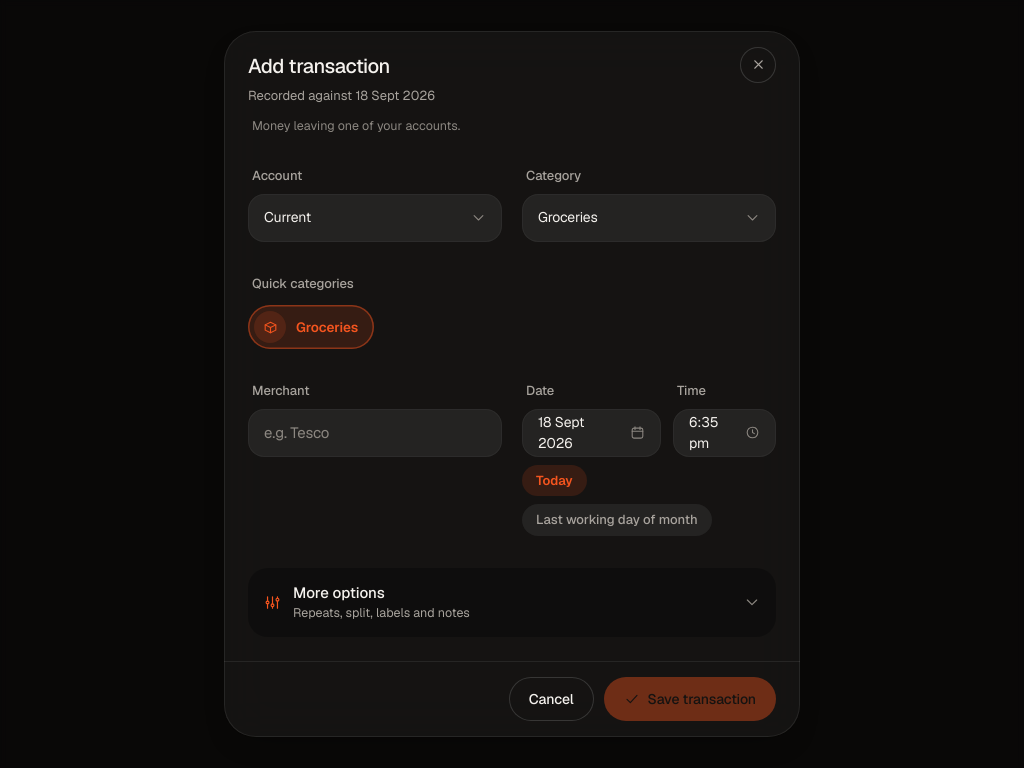
Scenario: the weekend rule › offers all four things a weekend can do to it, plus leaving it alone
This screenshot has width=1024, height=768.
(page scrolled)
Click the button "More options Repeats, split, labels and notes" at (339, 592), box [248,568,776,637]
(page scrolled)
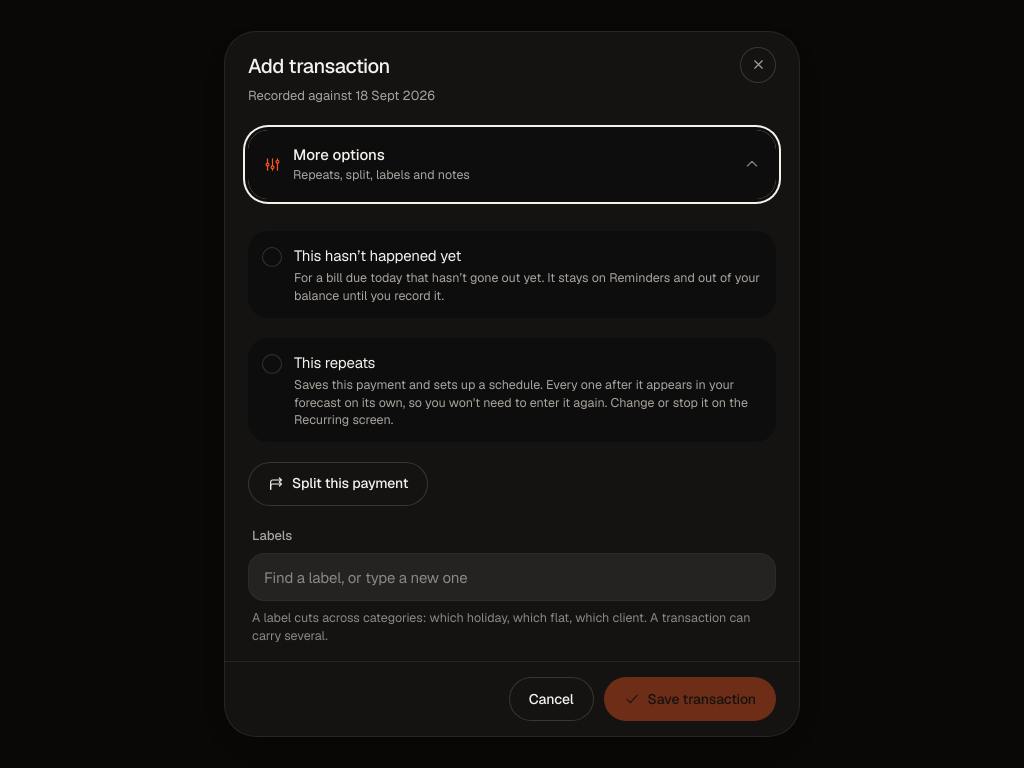
Click the checkbox labelled "This repeats" at (512, 390), box [248,338,776,442]
(page scrolled)
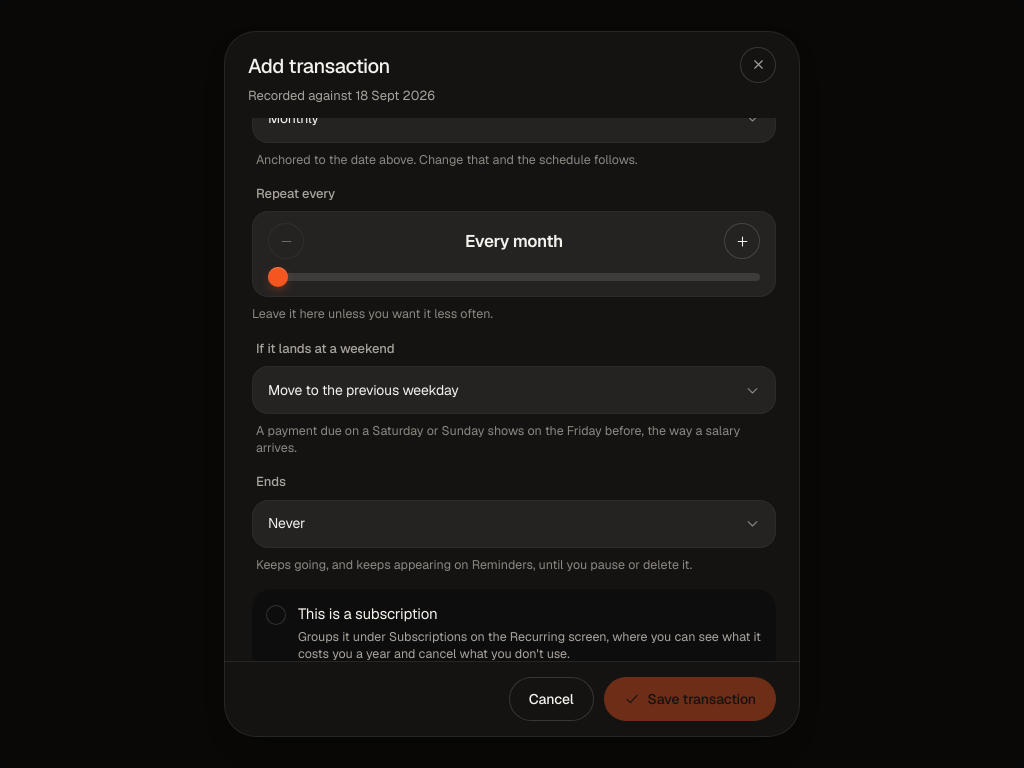
Click the dropdown named "lands at a weekend" at (363, 390), box [252,366,776,414]
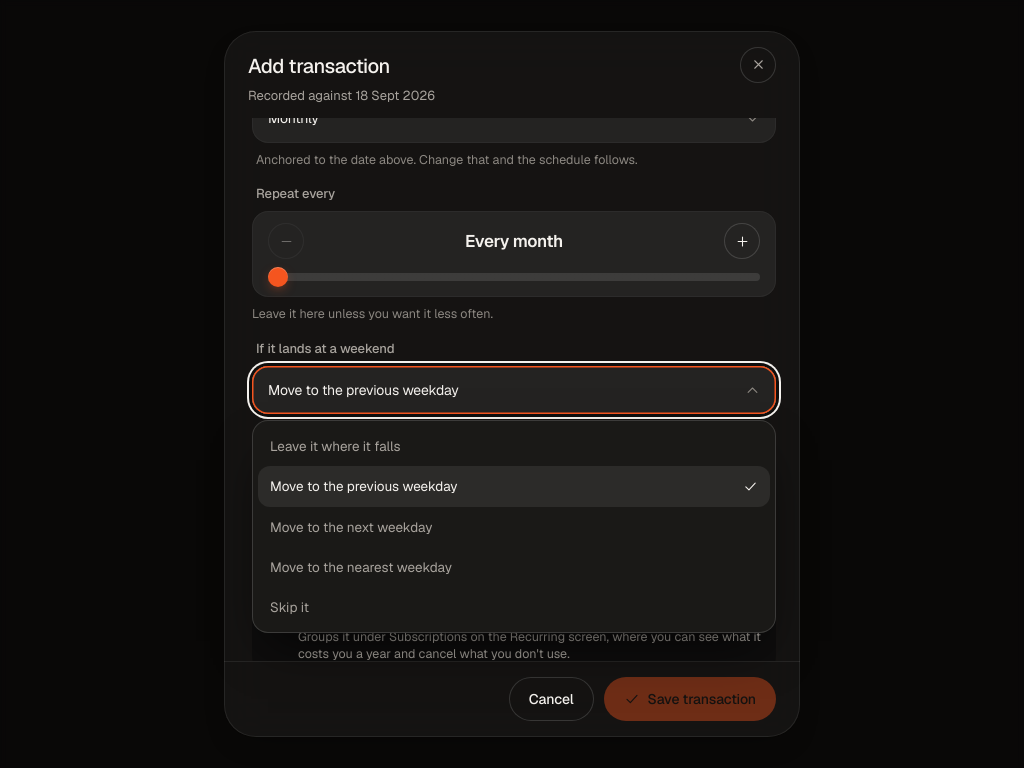
Now the options read "Leave it where it falls", "Move to the previous weekday", "Move to the next weekday", "Move to the nearest weekday", "Skip it", in this order, box [270,437,400,455]; [258,466,770,507]; [270,518,432,536]; [270,558,452,576]; [270,598,309,616]
